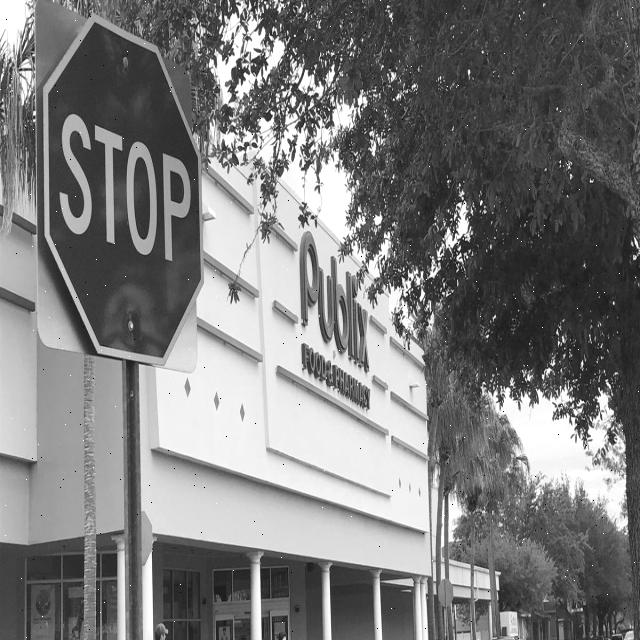Stop-sign: (36, 6, 218, 380)
